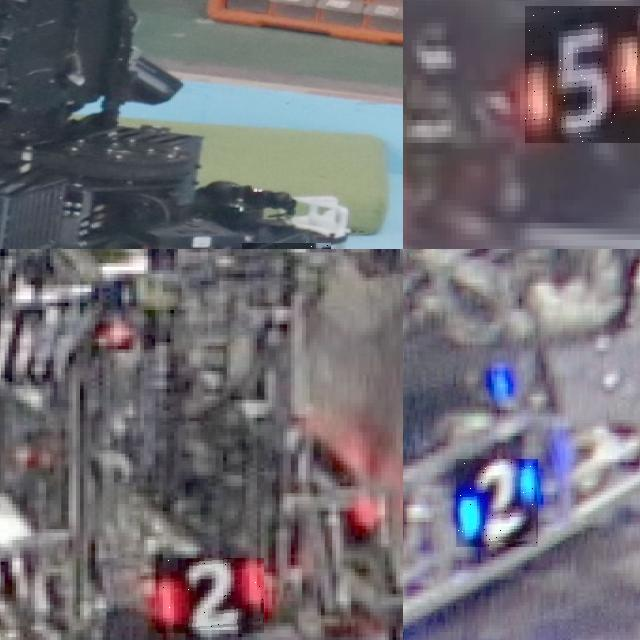B2: (456, 459, 538, 547)
R2: (156, 558, 264, 633)
R5: (525, 6, 640, 143)
